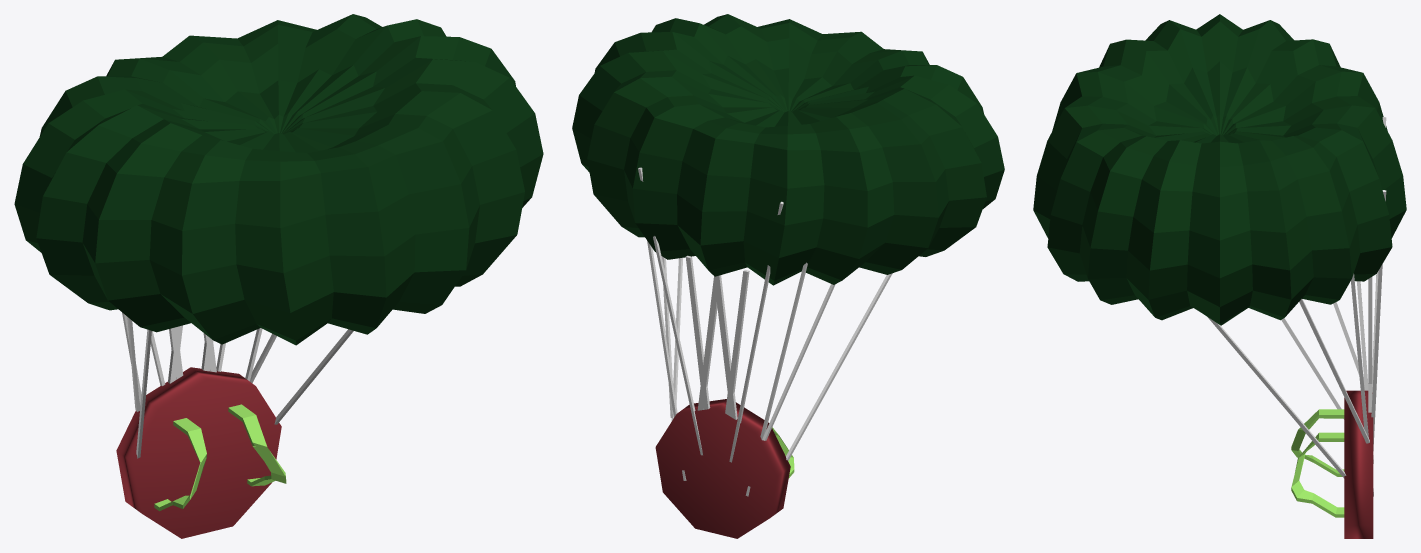
File: GOODparachute.fbx
The picture shows the model from 3 angles, left to right: view 1: azimuth 30°, elevation 25°; view 2: azimuth 150°, elevation 25°; view 3: azimuth 270°, elevation 25°; orthographic projection. The views are drawn at different scales.
Visible parts, largest first — view 1: Esfera, Cilindro, Plano, Plano.005; view 2: Esfera, Cilindro, Plano; view 3: Esfera, Plano, Cilindro, Plano.005.
Part boxes in pixels (x1,y1,x2,y2): Esfera: [14, 14, 543, 345]; Cilindro: [116, 367, 281, 538]; Plano: [122, 312, 353, 458]; Plano.005: [154, 404, 286, 511]; Esfera: [572, 14, 1004, 285]; Cilindro: [655, 399, 790, 538]; Plano: [638, 167, 892, 496]; Esfera: [1033, 14, 1406, 325]; Plano: [1207, 117, 1386, 496]; Cilindro: [1344, 390, 1373, 538]; Plano.005: [1291, 409, 1344, 517].
Size of the model in its own units: 260 by 263 by 199.
